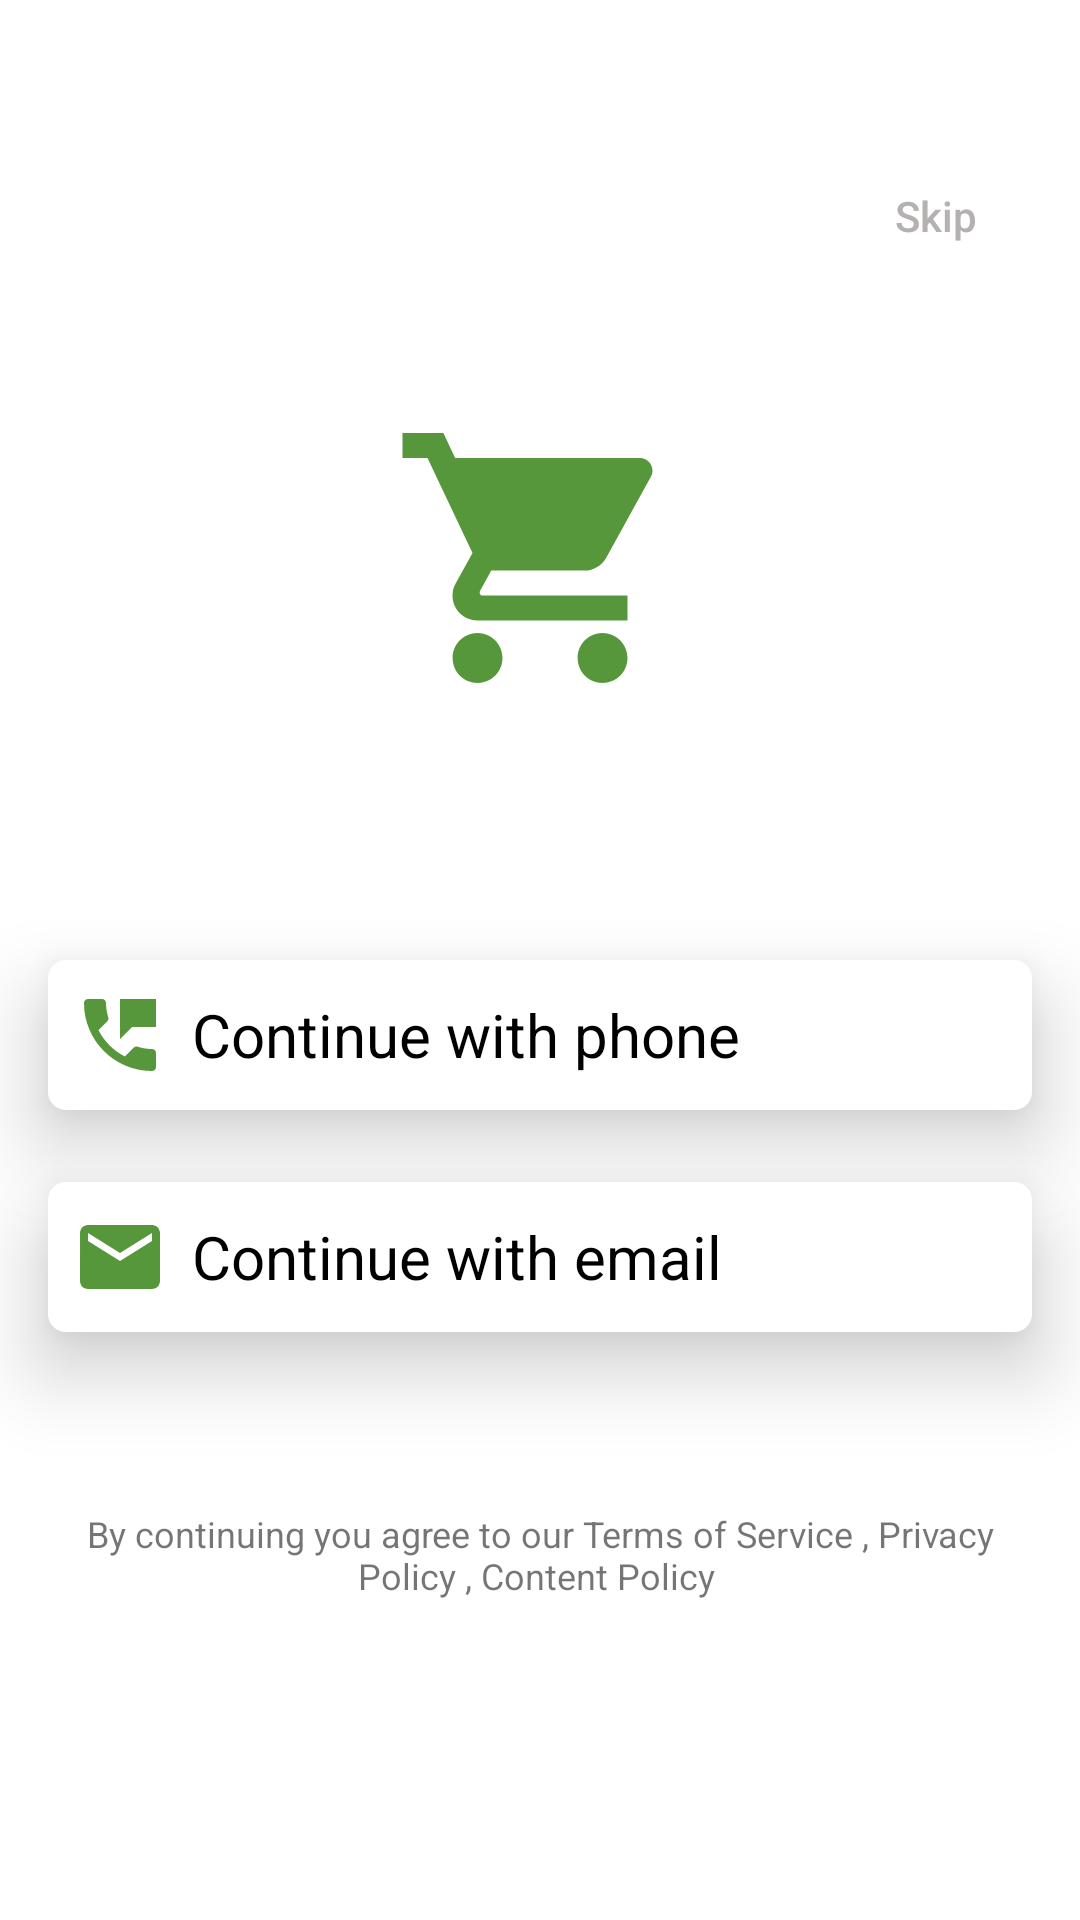

Screen size 1080 x 1920. Icon name, then its center in pixels as (x,y):
store: (527,558)
